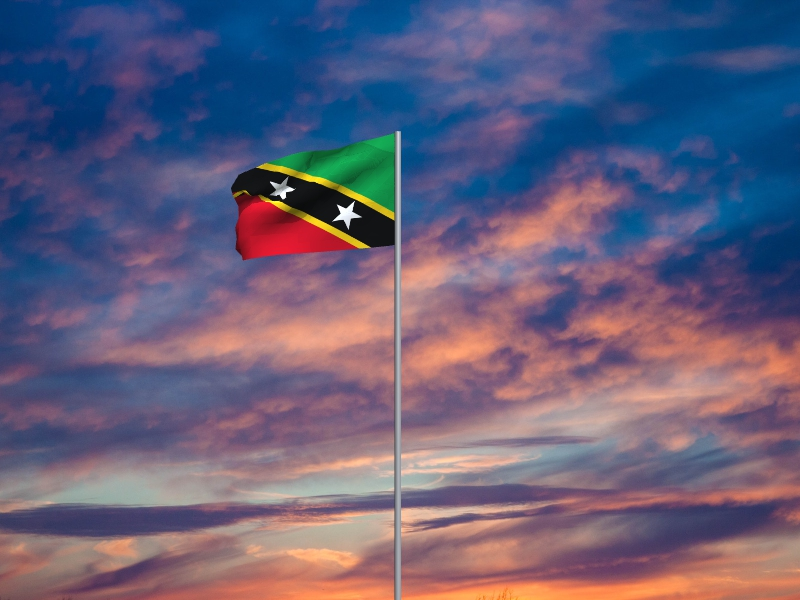kn: (230, 134, 395, 263)
